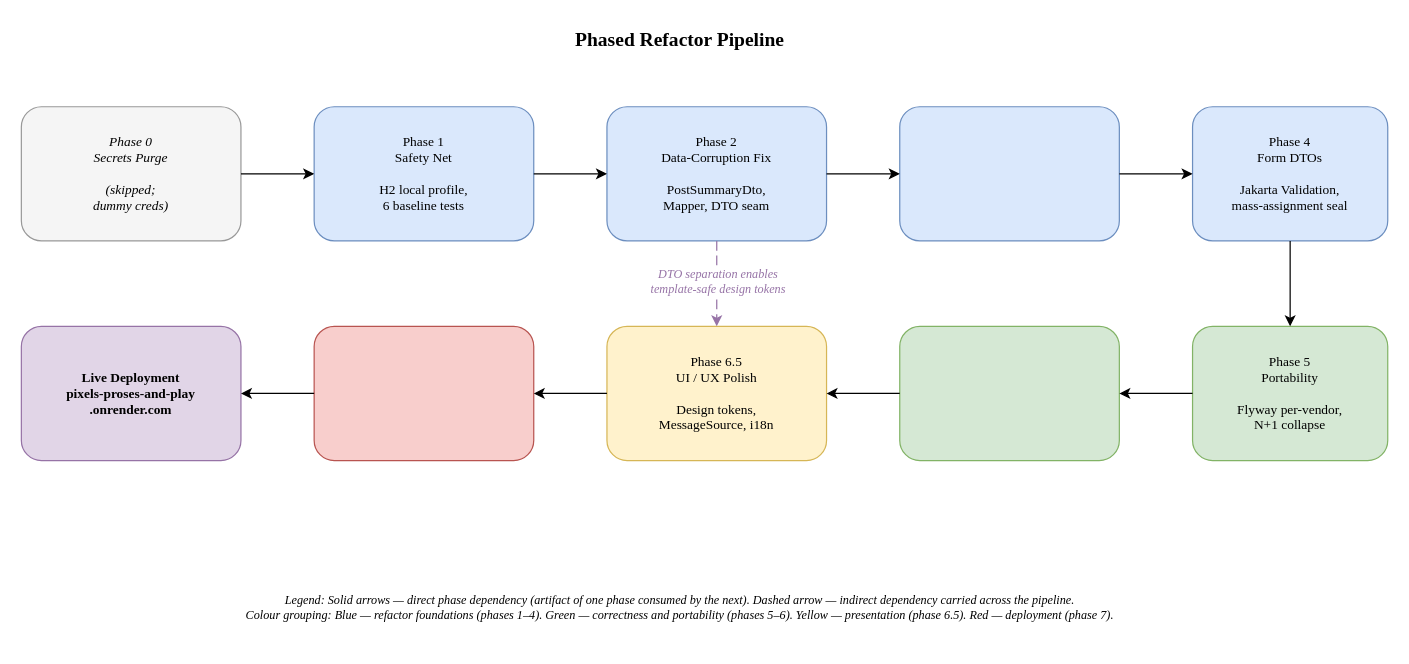
This 1409x664 diagram has some shape labels left out. The centre of each missing label's shape, as x and y in pixels:
"Phase 3 Service Layer Constructor DI, domain exceptions" goes at [1009,173].
"Phase 6 Security & Hygiene OSIV off, StorageService, HtmlSanitizer, OWASP" goes at [1009,393].
"Phase 7 Deployment Docker, Render, Neon Postgres" goes at [423,393].
